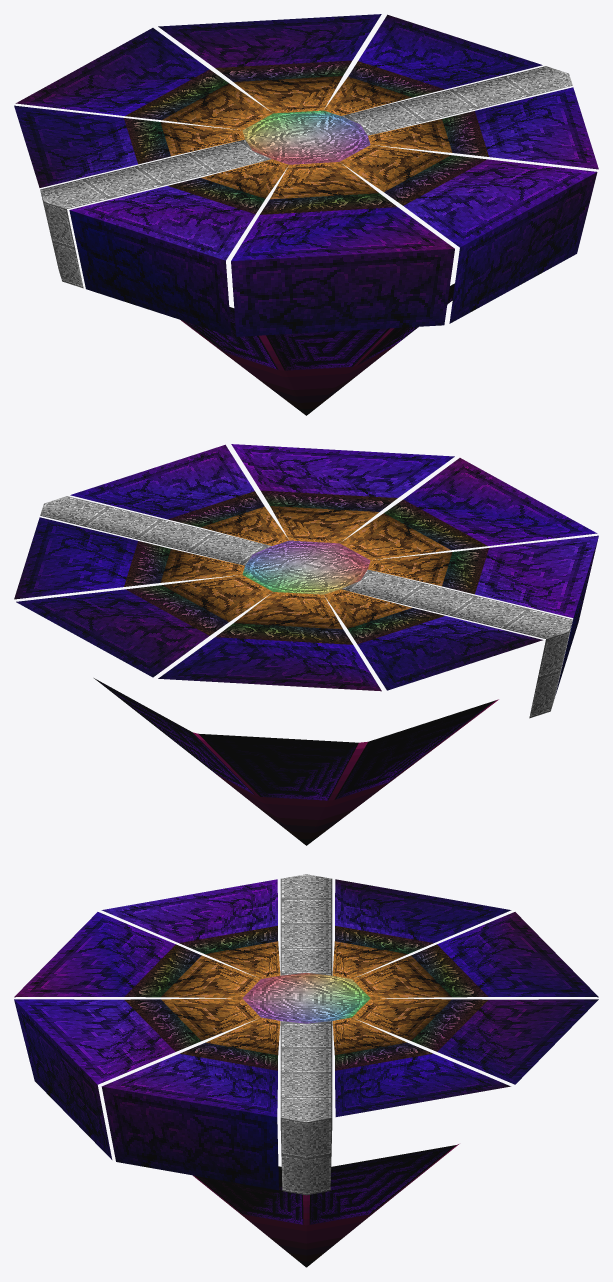
Rendered from FinalDestination.glb.
The picture shows the model from 3 angles, top to bottom: view 1: azimuth 30°, elevation 25°; view 2: azimuth 150°, elevation 25°; view 3: azimuth 270°, elevation 25°; orthographic projection. The views are drawn at different scales.
Visible parts, largest first — view 1: FinalDestination_6, FinalDestination_4, FinalDestination_5, FinalDestination_0, FinalDestination_7, FinalDestination_2, FinalDestination_Alpha_3, FinalDestination_1; view 2: FinalDestination_6, FinalDestination_4, FinalDestination_5, FinalDestination_7, FinalDestination_0, FinalDestination_2, FinalDestination_Alpha_3, FinalDestination_1; view 3: FinalDestination_6, FinalDestination_4, FinalDestination_5, FinalDestination_0, FinalDestination_7, FinalDestination_2, FinalDestination_1, FinalDestination_Alpha_3.
Part boxes in pixels (x1,y1,x2,y2): FinalDestination_6: [14, 14, 598, 336]; FinalDestination_4: [160, 76, 452, 199]; FinalDestination_5: [124, 60, 488, 214]; FinalDestination_0: [40, 66, 572, 208]; FinalDestination_7: [184, 283, 454, 370]; FinalDestination_2: [242, 110, 370, 164]; FinalDestination_Alpha_3: [181, 320, 397, 415]; FinalDestination_1: [40, 192, 83, 288]; FinalDestination_6: [14, 444, 598, 695]; FinalDestination_4: [160, 506, 452, 629]; FinalDestination_5: [124, 490, 488, 644]; FinalDestination_7: [94, 678, 495, 800]; FinalDestination_0: [40, 496, 572, 638]; FinalDestination_2: [242, 540, 370, 594]; FinalDestination_Alpha_3: [193, 699, 498, 845]; FinalDestination_1: [529, 622, 572, 718]; FinalDestination_6: [14, 879, 598, 1190]; FinalDestination_4: [161, 941, 451, 1055]; FinalDestination_5: [124, 925, 488, 1070]; FinalDestination_0: [280, 874, 332, 1122]; FinalDestination_7: [195, 1145, 456, 1224]; FinalDestination_2: [242, 973, 370, 1023]; FinalDestination_1: [280, 1118, 332, 1195]; FinalDestination_Alpha_3: [193, 1144, 458, 1267].
Bounding box in the file's own units: 627 × 317 × 625.
8 materials, 8 textured.
